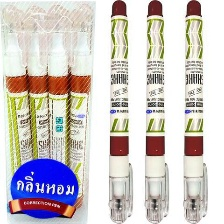correction_fluid: (0, 3, 35, 214), (19, 3, 53, 214), (179, 0, 209, 224), (142, 0, 172, 224), (106, 0, 134, 224), (66, 2, 95, 213), (43, 2, 71, 213)
